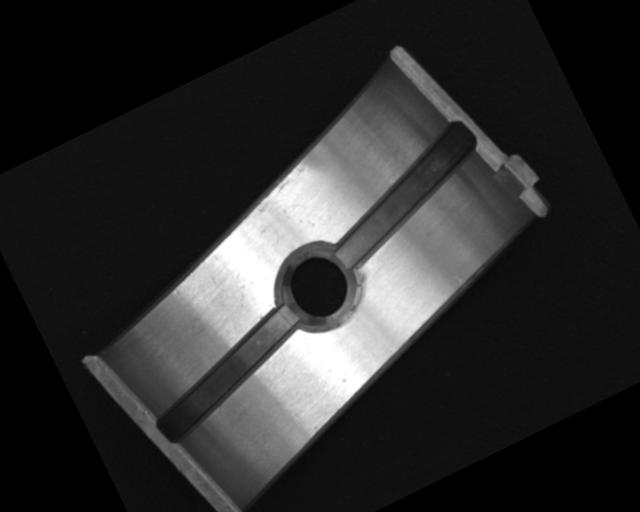gap: (309, 121, 498, 273), (132, 302, 320, 447)
hole: (261, 230, 374, 346)
